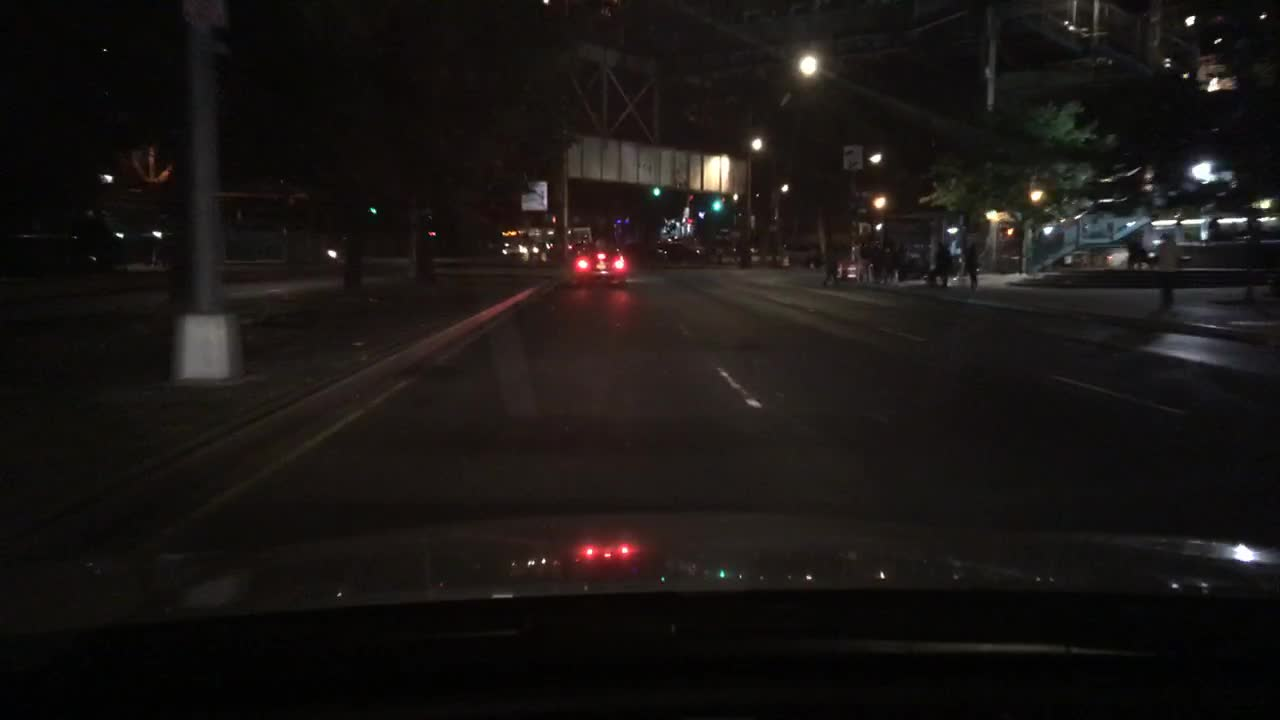car: (66, 210, 168, 269), (827, 241, 925, 287), (569, 242, 628, 281), (653, 237, 708, 260), (500, 239, 533, 260), (532, 242, 560, 258)
person: (1154, 226, 1177, 310), (956, 217, 981, 290), (1122, 228, 1154, 268), (935, 238, 954, 287), (1242, 209, 1265, 239), (859, 243, 876, 282), (1203, 213, 1225, 242), (879, 240, 892, 280)
traffic light: (368, 201, 383, 215), (711, 198, 725, 211), (427, 227, 440, 238), (653, 183, 663, 195)
traffic sign: (520, 178, 548, 209), (842, 146, 861, 170)
